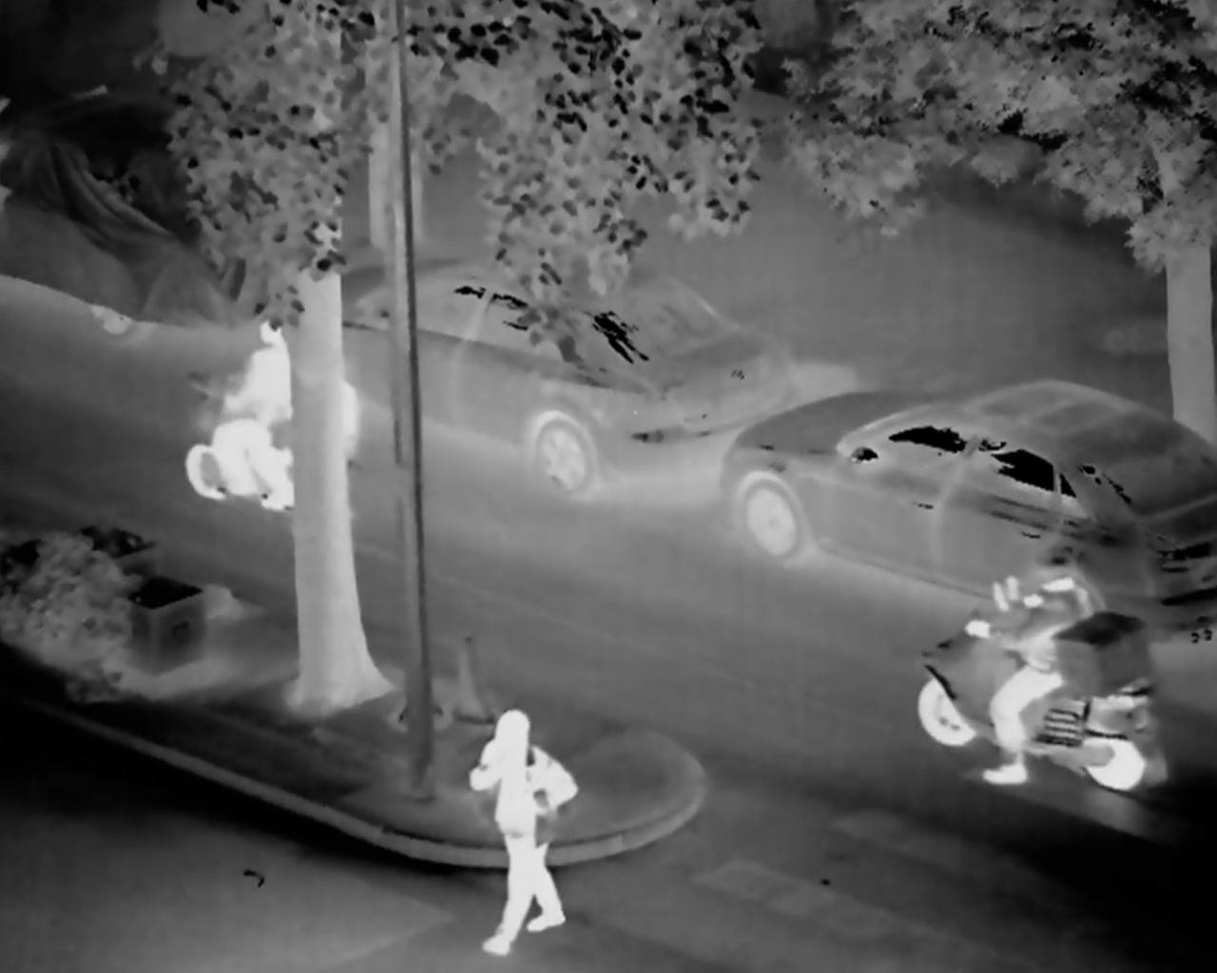person: (462, 703, 577, 961), (983, 544, 1094, 792), (231, 321, 300, 539)
